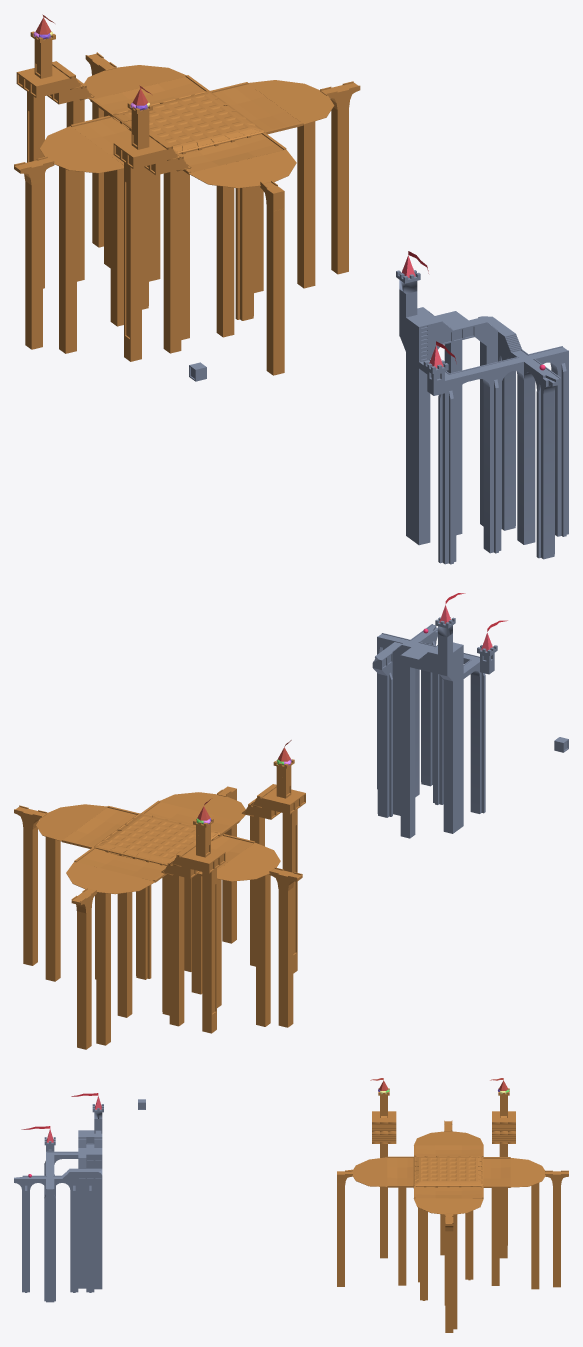
Rendered from sceene.fbx.
3 renders of one model, top to bottom at view 1: azimuth 30°, elevation 25°; view 2: azimuth 150°, elevation 25°; view 3: azimuth 270°, elevation 25°, orthographic. The views are drawn at different scales.
Parts seen in each view (by area): view 1: Cube.006, Cube.054, Cube.055, Cube.011, Circle.006, Circle.015, Circle.020, Circle.017, Cube.087, Cube.096, Cube.084, Cube.010 (+13 smaller); view 2: Cube.054, Cube.006, Cube.055, Cube.010, Cube.011, Circle.017, Cube.007, Cube.034, Cube.100, Cube.117, Cube.044, Cube.036 (+12 smaller); view 3: Cube.055, Cube.054, Cube.011, Cube.006, Cube.010, Circle.010, Circle.020, Cube.007, Circle.013, Cube.036, Cube.034, Cube.038 (+6 smaller).
Boxes of the visible parts, box(x1,y1,x2,y2) form: Cube.006: box(14, 115, 131, 353); Cube.054: box(210, 80, 360, 292); Cube.055: box(180, 132, 296, 375); Cube.011: box(112, 91, 264, 154); Circle.006: box(506, 349, 546, 544); Circle.015: box(473, 360, 512, 553); Circle.020: box(530, 364, 561, 559); Circle.017: box(438, 371, 467, 564); Cube.087: box(124, 162, 141, 361); Cube.096: box(163, 170, 181, 353); Cube.084: box(412, 358, 430, 545); Cube.010: box(90, 75, 209, 281); Cube.054: box(14, 804, 138, 981); Cube.006: box(196, 834, 302, 1027); Cube.055: box(141, 786, 245, 971); Cube.010: box(74, 846, 166, 1017); Cube.011: box(94, 813, 220, 865); Circle.017: box(463, 653, 485, 813); Cube.007: box(71, 887, 96, 1049); Cube.034: box(400, 683, 415, 838); Cube.100: box(443, 678, 458, 833); Cube.117: box(202, 868, 216, 1033); Cube.044: box(169, 875, 184, 1026); Cube.036: box(377, 662, 392, 817); Cube.055: box(337, 1156, 416, 1286); Cube.054: box(413, 1186, 483, 1332); Cube.011: box(413, 1156, 483, 1188); Cube.006: box(414, 1120, 483, 1255); Cube.010: box(481, 1157, 510, 1285); Circle.010: box(44, 1182, 55, 1302); Circle.020: box(14, 1175, 37, 1292); Cube.007: box(545, 1170, 568, 1287); Circle.013: box(62, 1179, 78, 1292); Cube.036: box(86, 1179, 94, 1292); Cube.034: box(94, 1180, 102, 1289); Cube.038: box(531, 1183, 539, 1289).
Size of the model in its own units: 7334 by 5064 by 13806.
